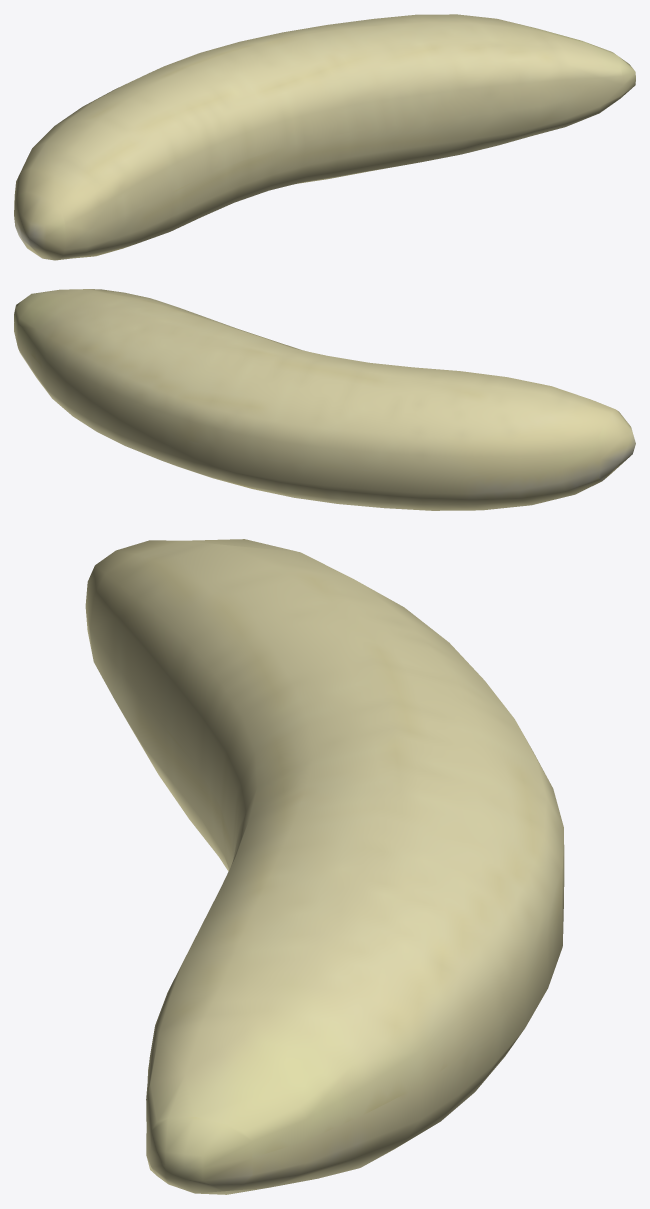
The model's file is BananaPeeled.fbx.
The picture shows the model from 3 angles, top to bottom: view 1: azimuth 30°, elevation 25°; view 2: azimuth 150°, elevation 25°; view 3: azimuth 270°, elevation 25°; orthographic projection. The views are drawn at different scales.
Parts seen in each view (by area): view 1: BananaPeeled_LOD0; view 2: BananaPeeled_LOD0; view 3: BananaPeeled_LOD0.
Part boxes in pixels (box(x1,y1,x2,y2)): BananaPeeled_LOD0: box(14, 14, 635, 260); BananaPeeled_LOD0: box(14, 289, 635, 510); BananaPeeled_LOD0: box(85, 539, 564, 1194).
Size of what is drawn, in the model's own units: 0.1489 by 0.0311 by 0.0514.
